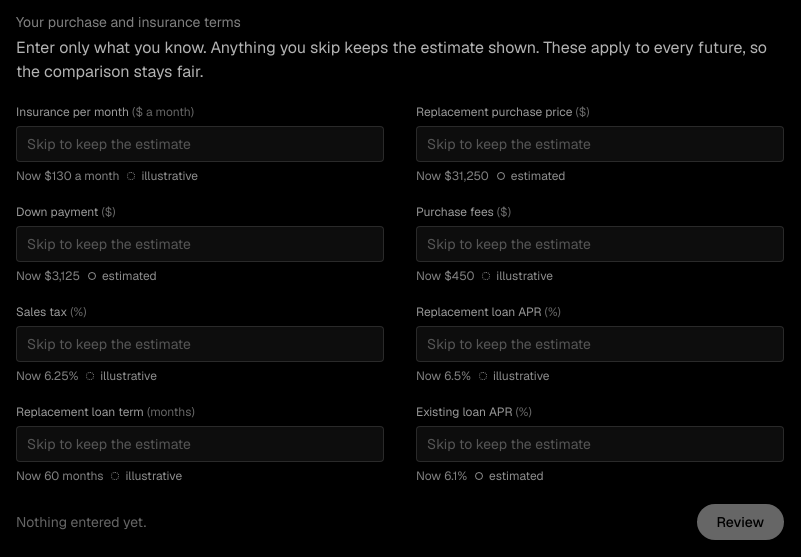
Scenario: AssumptionsReview: entering terms › refuses a down payment that is more than the price in use, when it is the only thing entered
Type "40000" into the field labelled "Down payment ($)". click: coordinates (200, 244)
box: [16, 226, 384, 262]
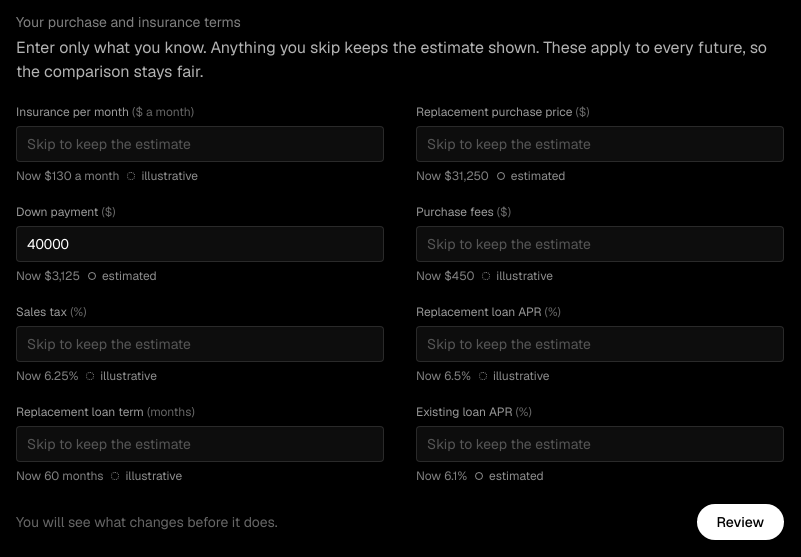
Click the button "Review". click: coordinates (740, 522)
box: [696, 504, 784, 540]
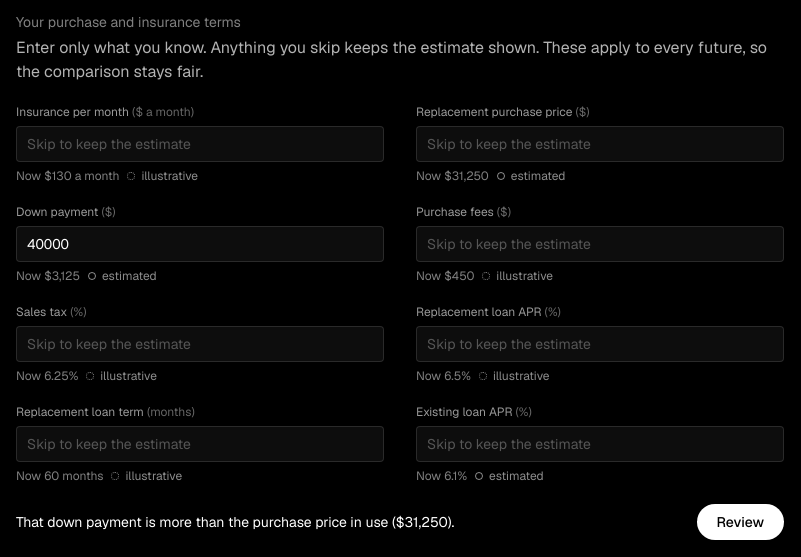
Check: the message with test id "terms-problem" shows "more than the purchase price in use ($31,250)", box [16, 513, 454, 531]
